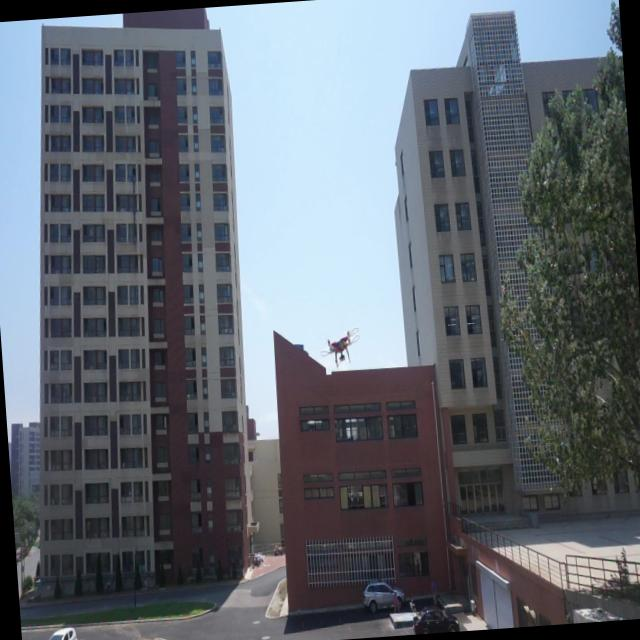drone: (312, 321, 363, 373)
